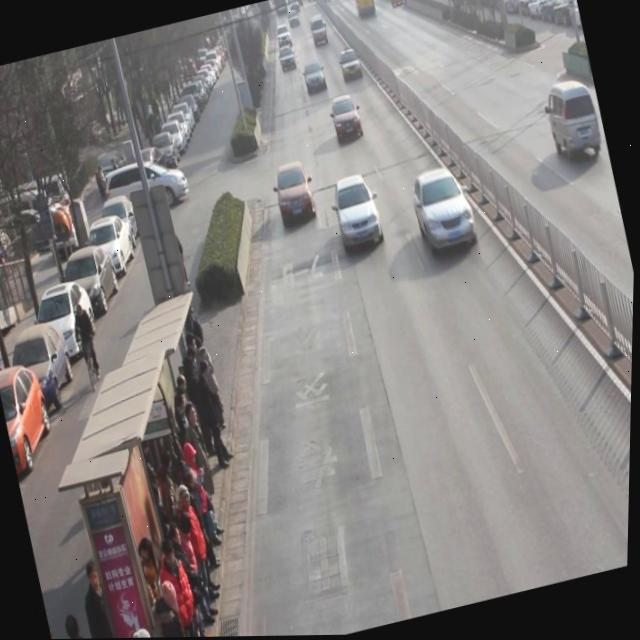car: (407, 162, 483, 262), (329, 172, 388, 255), (269, 158, 321, 231), (328, 93, 366, 145), (301, 59, 329, 97), (337, 47, 365, 85), (276, 43, 299, 75)
truck: (542, 77, 606, 167)
